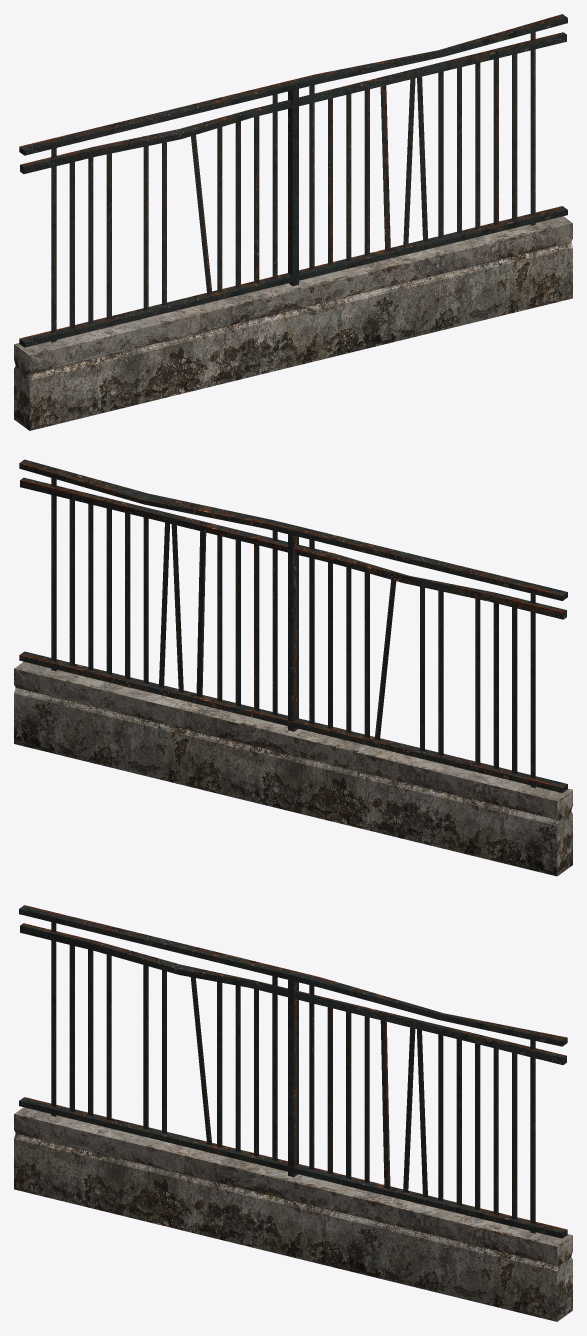
Rendered from Wall3G_LOD1.fbx.
The picture shows the model from 3 angles, top to bottom: view 1: azimuth 30°, elevation 25°; view 2: azimuth 150°, elevation 25°; view 3: azimuth 330°, elevation 25°; orthographic projection.
Visible parts, largest first — view 1: polySurface199; view 2: polySurface199; view 3: polySurface199.
Part boxes in pixels (x1,y1,x2,y2): polySurface199: (14,14,572,430); polySurface199: (14,459,572,876); polySurface199: (14,905,572,1321).
Bounding box in the file's own units: 6 × 2.92 × 0.3.
